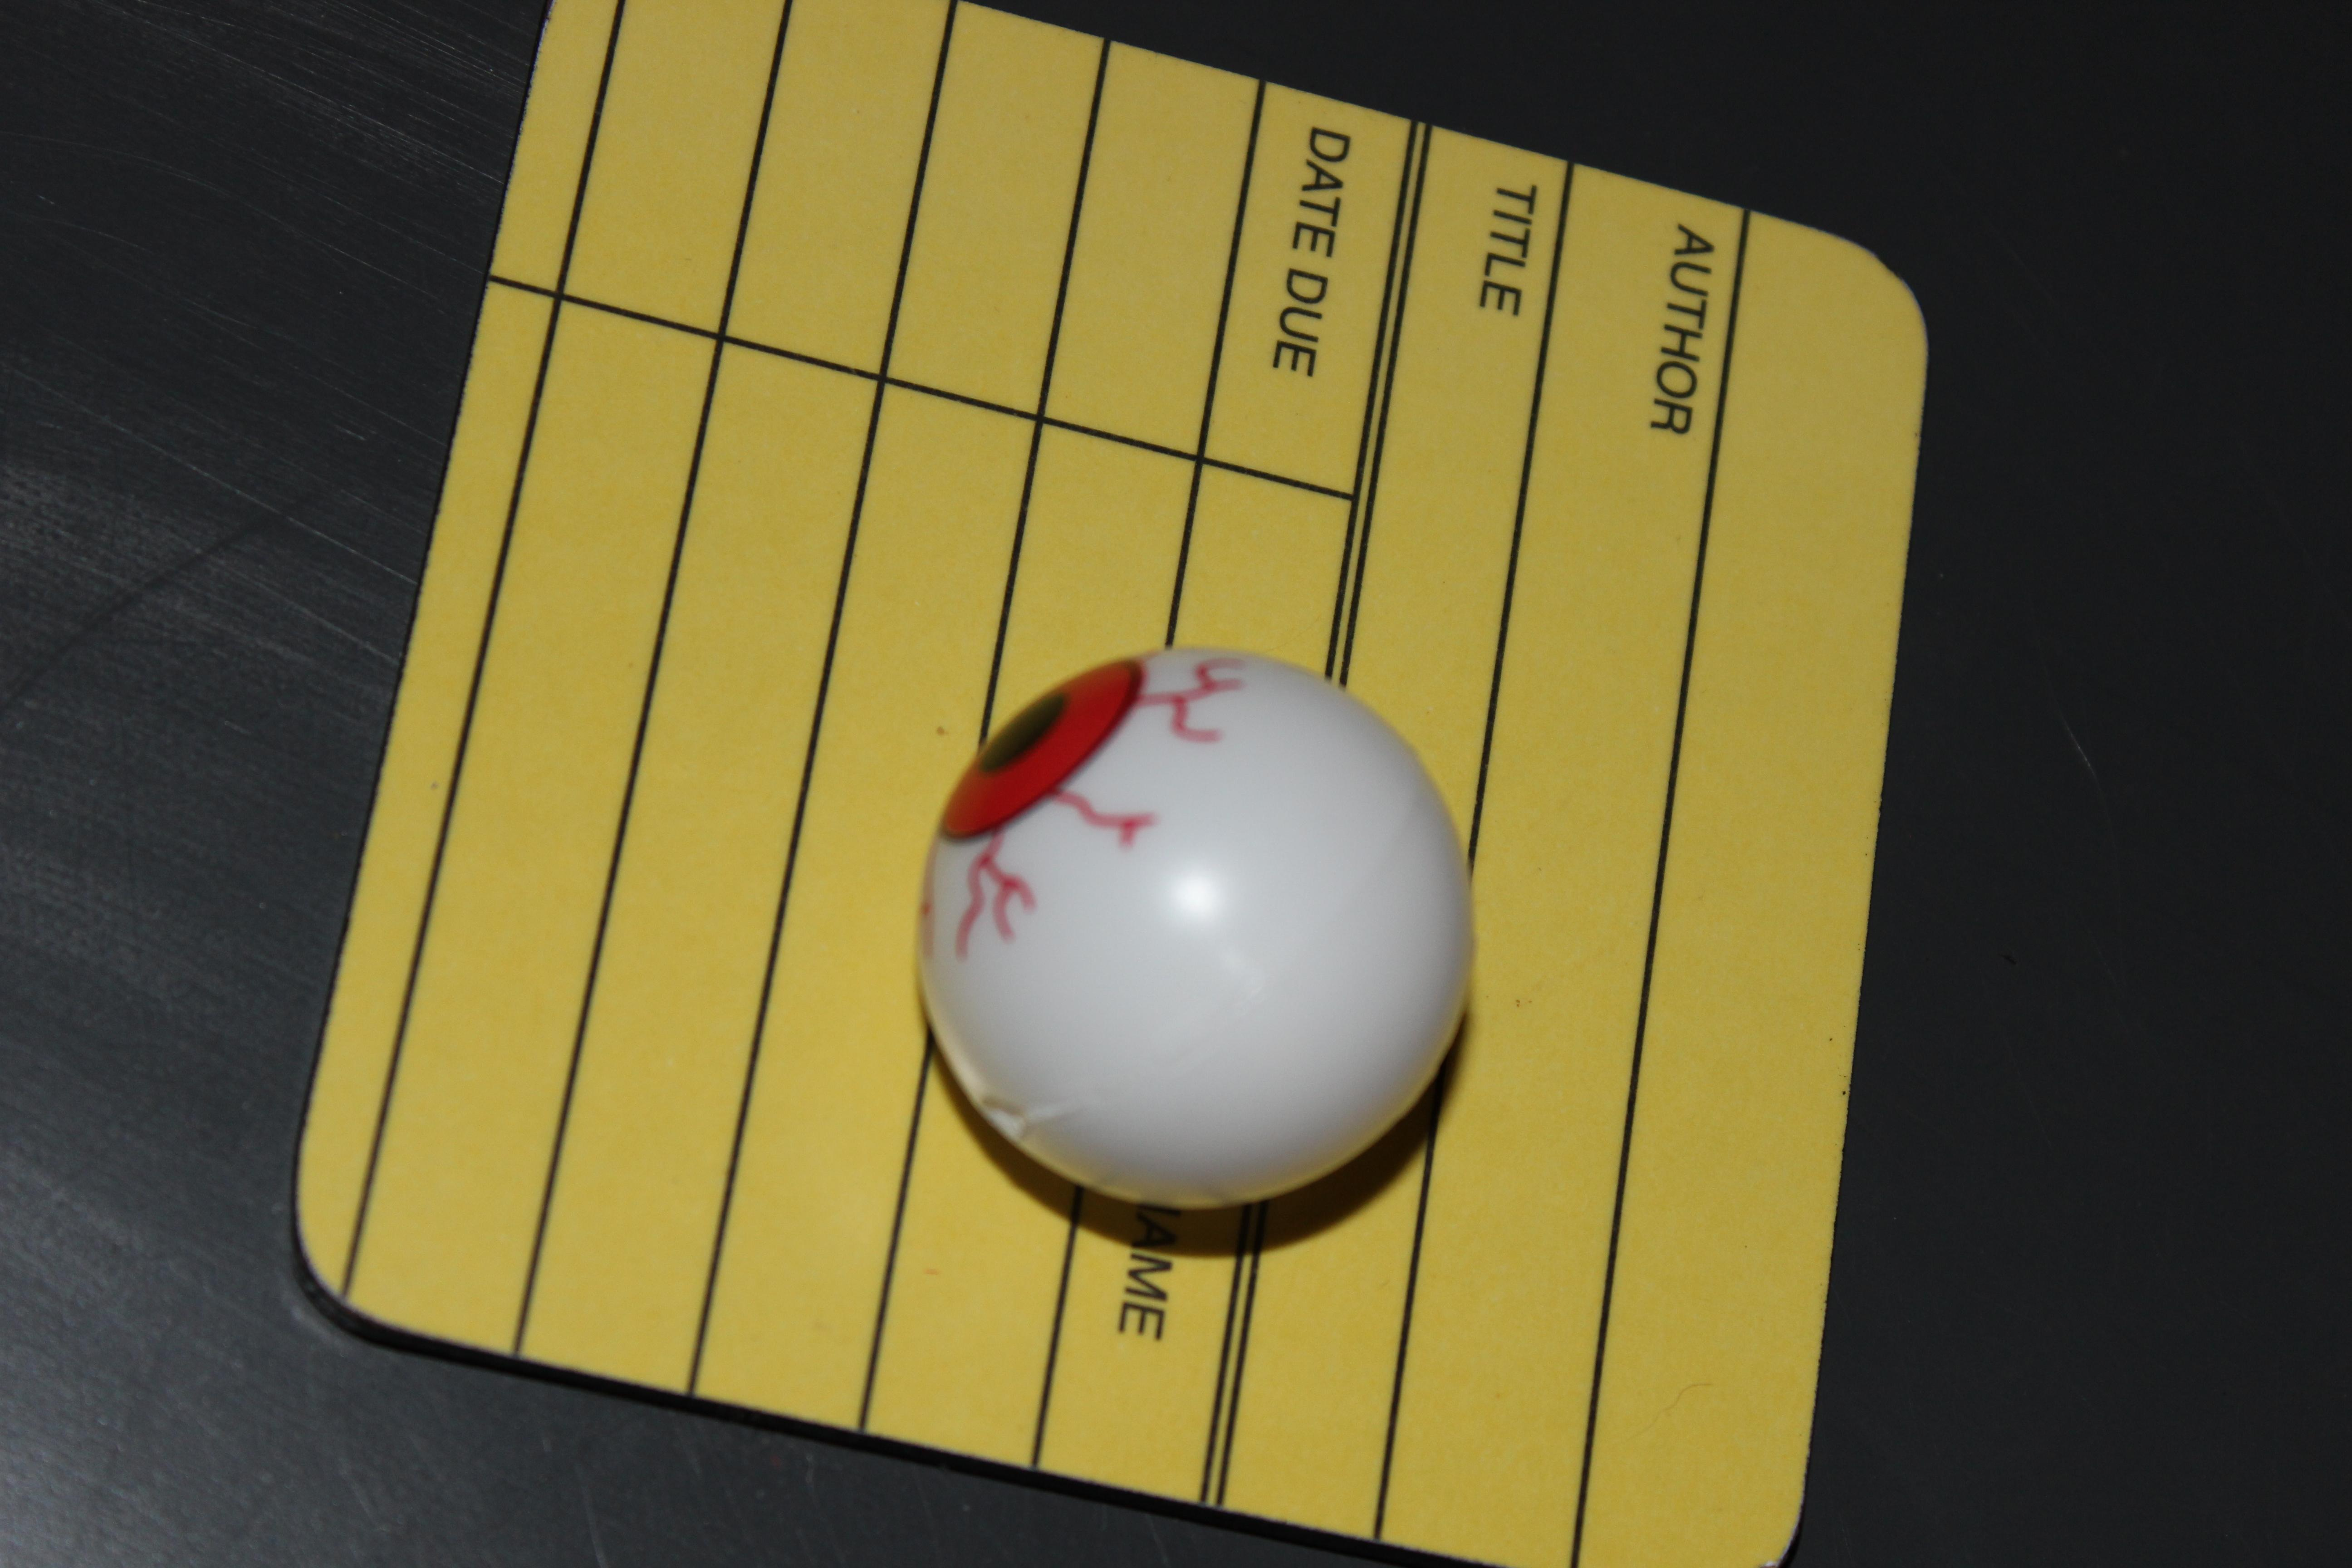eyeball: (897, 626, 1492, 1276)
